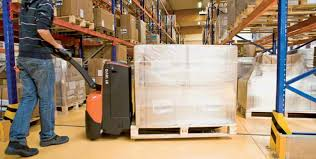Pallet Jack: (50, 47, 234, 139)
